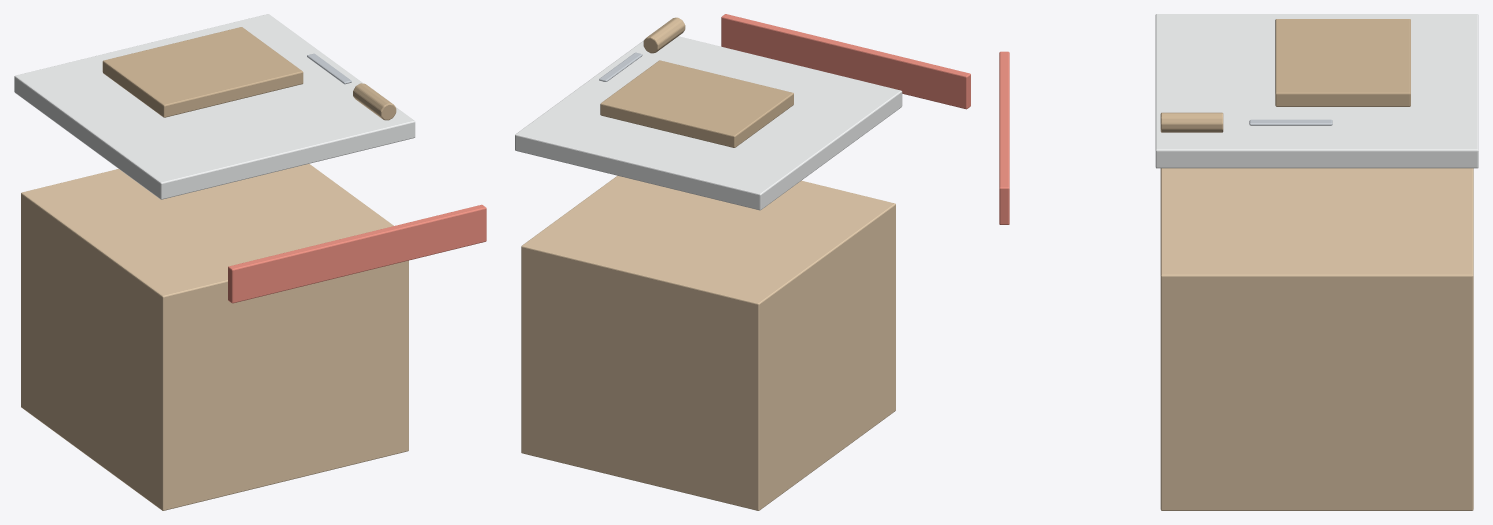
File: SM_CuttingBoard.glb
3 renders of one model, left to right at view 1: azimuth 30°, elevation 25°; view 2: azimuth 150°, elevation 25°; view 3: azimuth 270°, elevation 25°, orthographic. The views are drawn at different scales.
Visible parts, largest first — view 1: SM_CuttingBoard; view 2: SM_CuttingBoard; view 3: SM_CuttingBoard.
Part boxes in pixels (x1,y1,x2,y2): SM_CuttingBoard: (14,14,486,510); SM_CuttingBoard: (515,14,970,510); SM_CuttingBoard: (999,14,1478,510).
Bounding box in the file's own units: 0.62 × 0.825 × 0.92.
